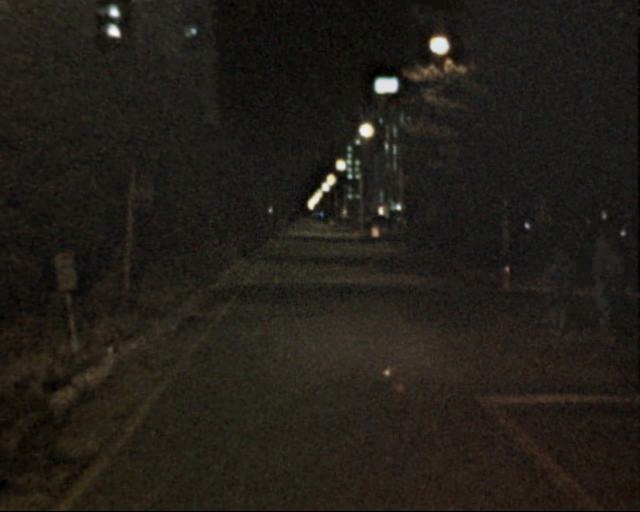person: (583, 226, 625, 340), (539, 241, 580, 340)
